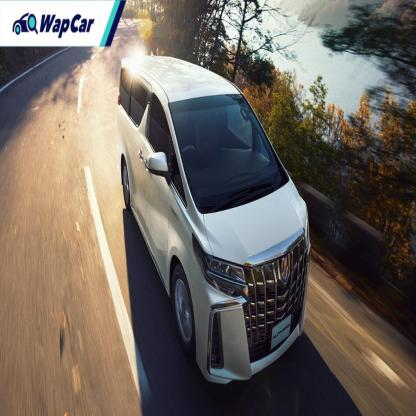car: (114, 53, 315, 382)
